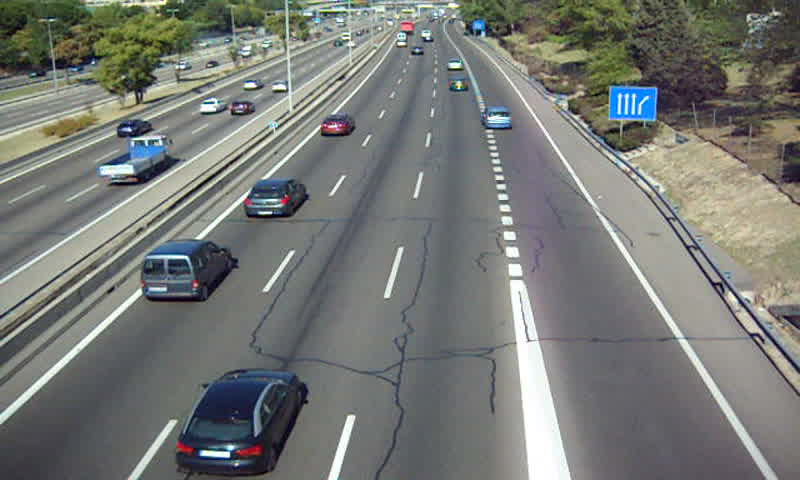car: (176, 370, 302, 475), (244, 180, 307, 216), (319, 115, 355, 136), (482, 105, 514, 128), (447, 77, 468, 92), (446, 58, 464, 69)
van: (139, 241, 232, 299)
